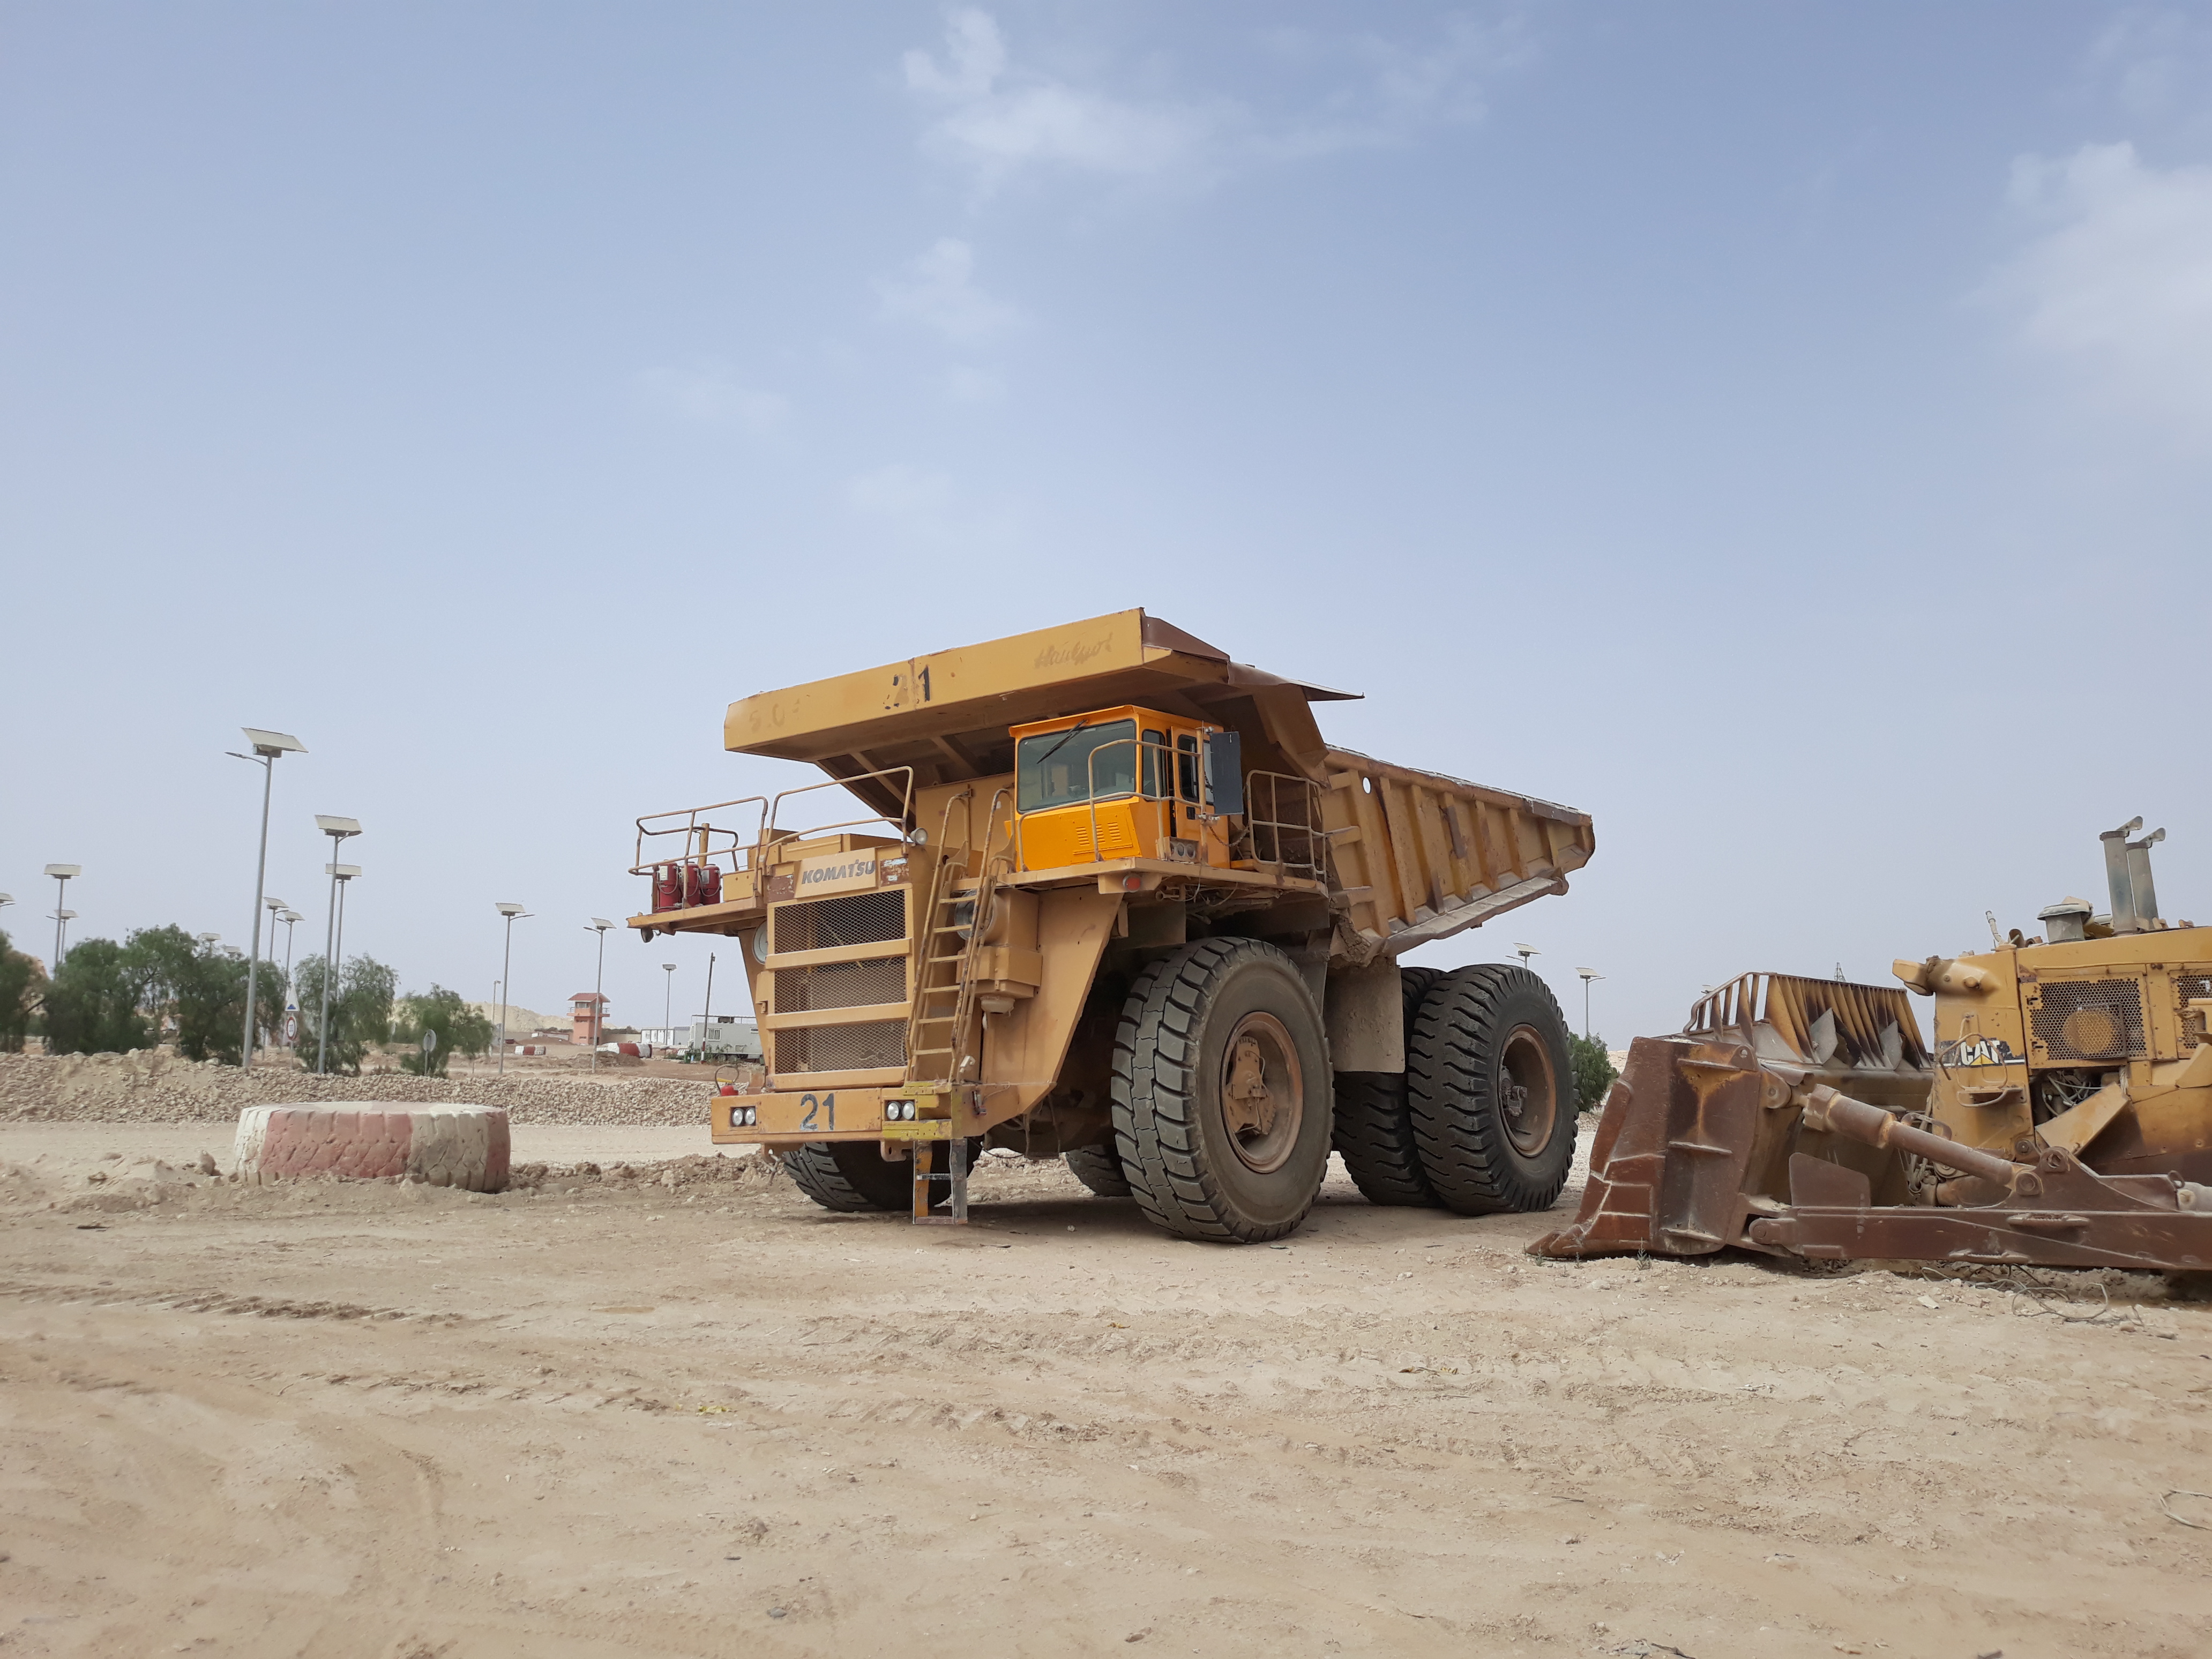bulldozer: (1575, 809, 2212, 1310)
camion: (651, 596, 1601, 1265)
